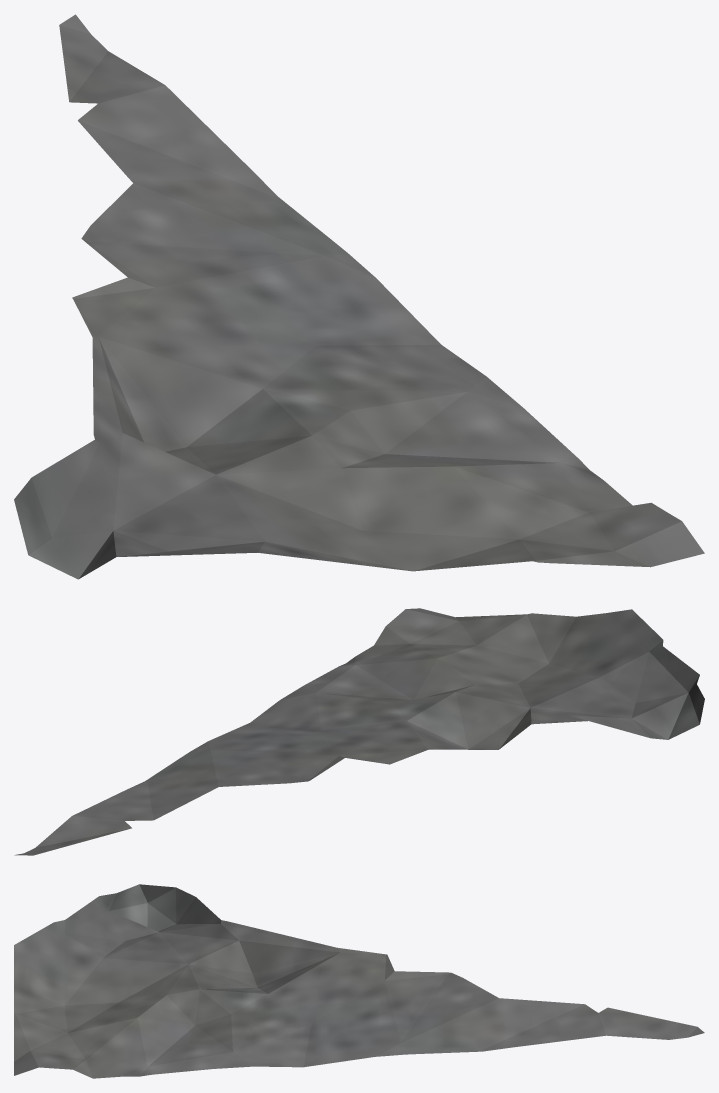
3 views of the same model, one above another, from view 1: azimuth 30°, elevation 25°; view 2: azimuth 150°, elevation 25°; view 3: azimuth 270°, elevation 25° (orthographic). The views are drawn at different scales.
Bounding box in the file's own units: 0.5642 × 0.0809 × 1.11.
Materials: 1 (1 with a texture image).
